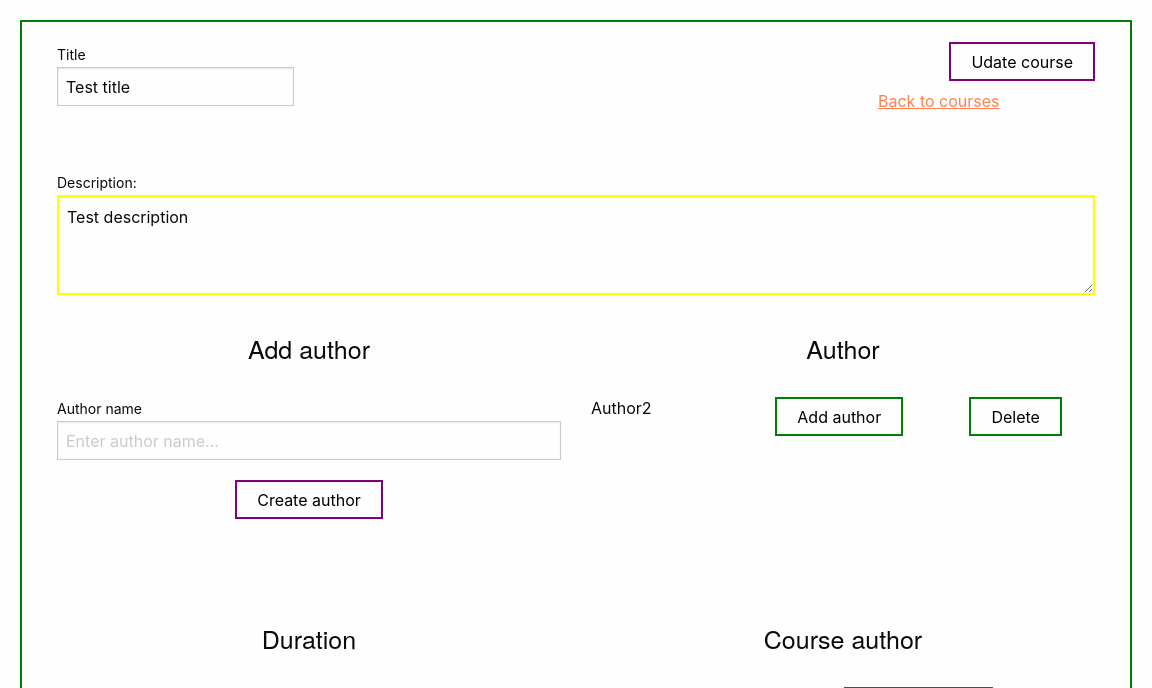
testing CreateCourse component › Should add author when click button
What coordinates should you click on to do the following:
click the button with test id "event-addAuthor"
I would click on:
 (839, 417)
Its box is [775,398,903,436].
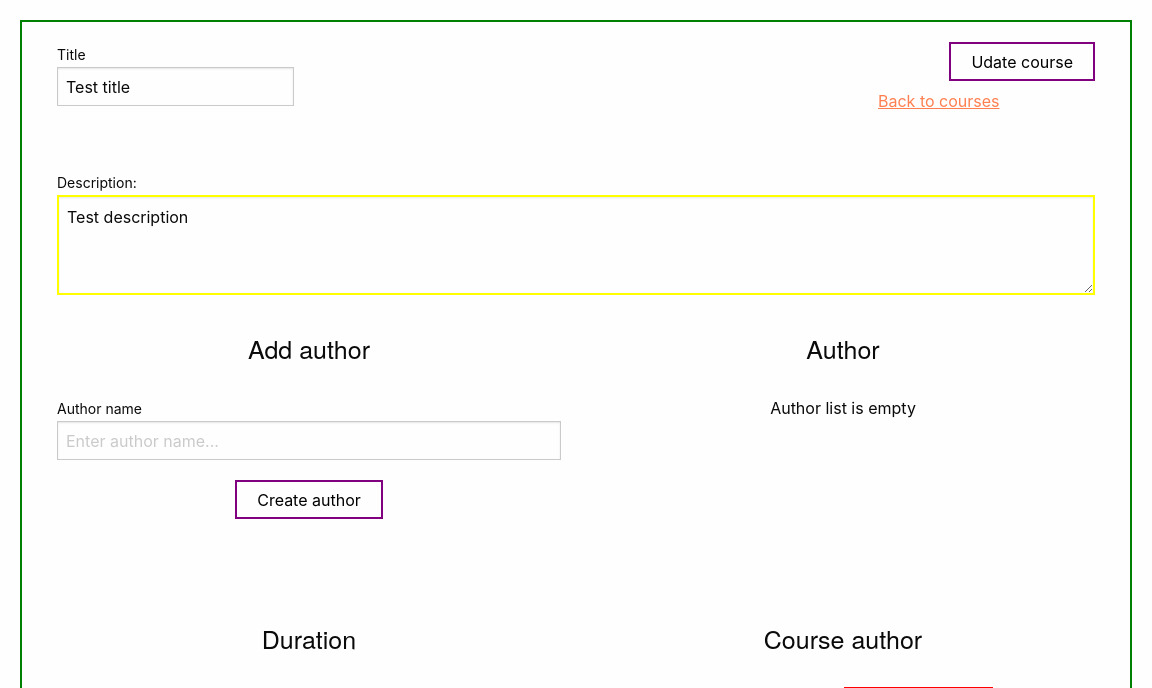
Now no list items are shown
